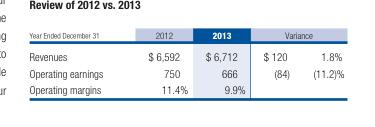table: (28, 28, 343, 95)
table column: (28, 28, 124, 95), (124, 28, 196, 95), (196, 28, 253, 95), (253, 28, 300, 95), (300, 28, 343, 95)
table column header: (28, 28, 343, 64)
table row: (28, 44, 343, 64), (28, 28, 343, 44), (28, 64, 343, 80), (28, 80, 343, 95)
table spanning cell: (28, 28, 124, 64), (124, 28, 196, 64), (196, 28, 253, 64), (253, 28, 343, 44)
